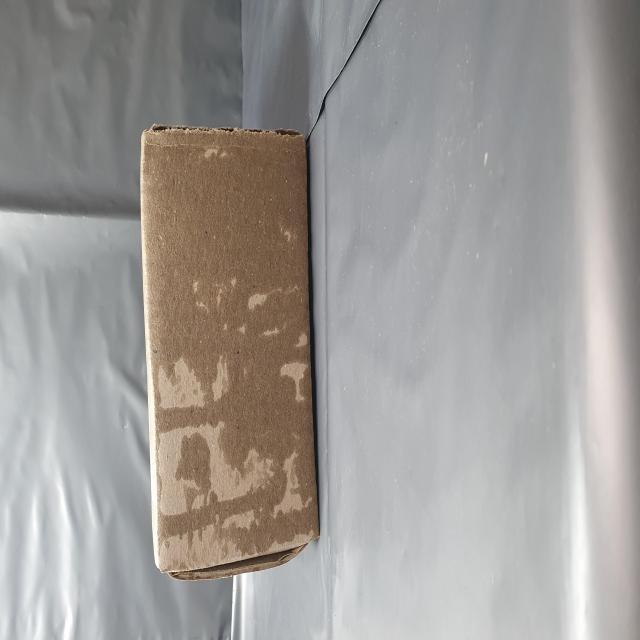wet: (42, 254, 296, 566)
